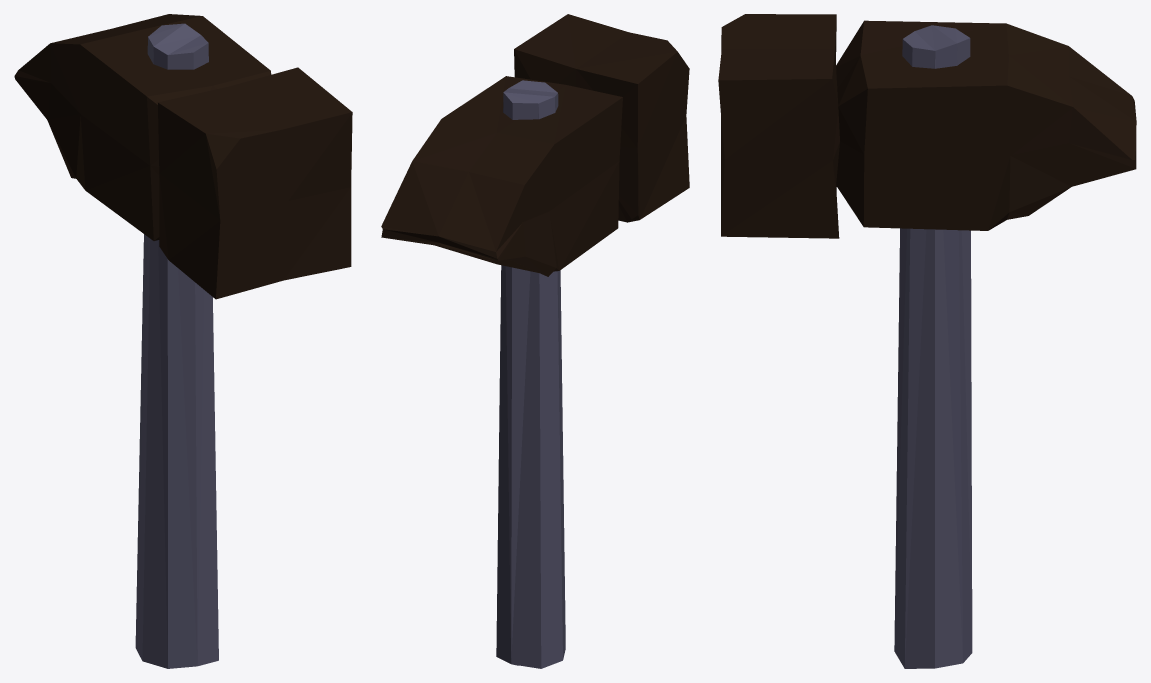
The model's file is SFFA_Hammer_005.fbx.
3 views of the same model, side by side, from view 1: azimuth 30°, elevation 25°; view 2: azimuth 150°, elevation 25°; view 3: azimuth 270°, elevation 25° (orthographic). The views are drawn at different scales.
Visible parts, largest first — view 1: SFFA_Hammer_005; view 2: SFFA_Hammer_005; view 3: SFFA_Hammer_005.
Boxes of the visible parts, x1,y1,x2,y2 form: SFFA_Hammer_005: (14, 14, 352, 668); SFFA_Hammer_005: (381, 14, 689, 668); SFFA_Hammer_005: (718, 14, 1136, 668).
Bounding box in the file's own units: 6.19 × 26.65 × 16.2.
